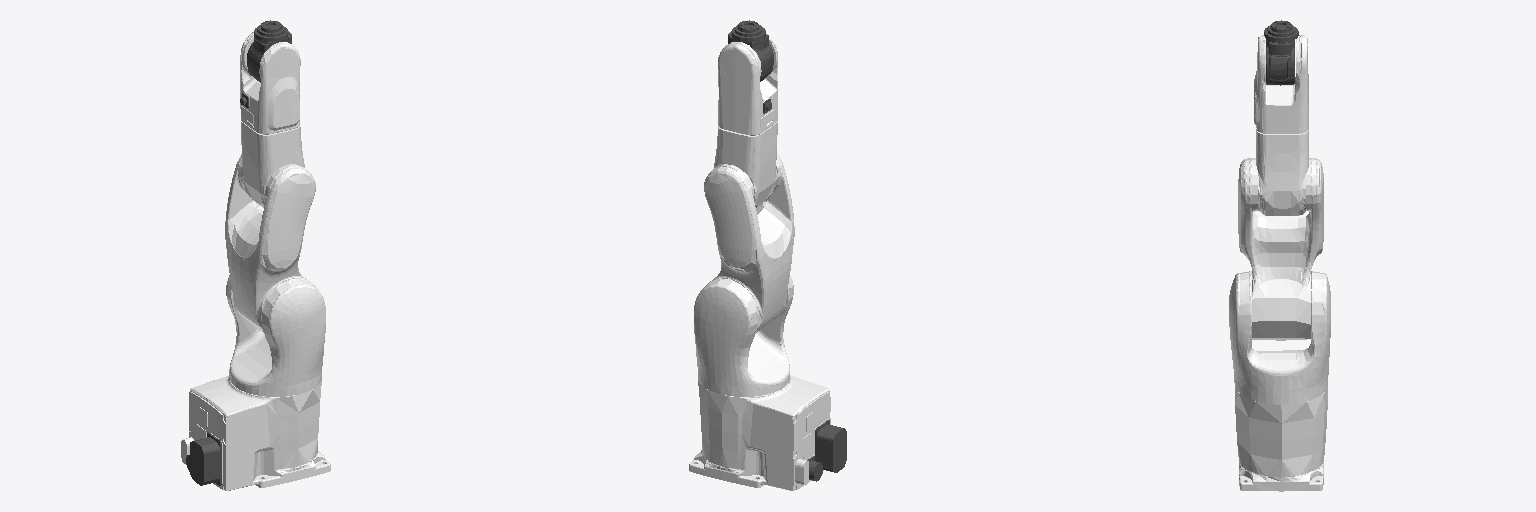
The robot description file, URDF, robot "vs050":
<robot name="vs050">
	<gazebo>
		<plugin filename="libgazebo_ros_control.so" name="gazebo_ros_control">
			<robotNamespace>/vs050</robotNamespace>
		</plugin>
	</gazebo>
	<link name="world" />
	<joint name="joint_w" type="fixed">
		<parent link="world" />
		<child link="base_link" />
	</joint>
	<link name="base_link">
		<visual>
			<origin rpy="0 0 0" xyz="0 0 0" />
			<geometry>
				<mesh filename="package://denso_robot_descriptions/vs050_description/base_link.dae" scale="1 1 1" />
			</geometry>
		</visual>
		<collision>
			<origin rpy="0 0 0" xyz="0 0 0" />
			<geometry>
				<mesh filename="package://denso_robot_descriptions/vs050_description/base_link.dae" scale="1 1 1" />
			</geometry>
		</collision>
		<inertial>
			<mass value="1" />
			<origin rpy="0.000000 0.000000 0.000000" xyz="0.000000 0.000000 0.000000" />
			<inertia ixx="1" ixy="0" ixz="0" iyy="1" iyz="0" izz="1" />
		</inertial>
	</link>
	<link name="J1">
		<visual>
			<origin rpy="0 0 0" xyz="0 0 0" />
			<geometry>
				<mesh filename="package://denso_robot_descriptions/vs050_description/J1.dae" scale="1 1 1" />
			</geometry>
		</visual>
		<collision>
			<origin rpy="0 0 0" xyz="0 0 0" />
			<geometry>
				<mesh filename="package://denso_robot_descriptions/vs050_description/J1.dae" scale="1 1 1" />
			</geometry>
		</collision>
		<inertial>
			<mass value="1" />
			<origin rpy="0.000000 0.000000 0.000000" xyz="0.000000 0.000000 0.000000" />
			<inertia ixx="1" ixy="0" ixz="0" iyy="1" iyz="0" izz="1" />
		</inertial>
	</link>
	<joint name="joint_1" type="revolute">
		<parent link="base_link" />
		<child link="J1" />
		<origin rpy="0.000000 0.000000 0.000000" xyz="0.000000 0.000000 0.181500" />
		<axis xyz="-0.000000 -0.000000 1.000000" />
		<limit effort="1" lower="-2.96705972839036" upper="2.96705972839036" velocity="3.73064127613788" />
		<dynamics damping="0" friction="0" />
	</joint>
	<transmission name="trans_1">
		<type>transmission_interface/SimpleTransmission</type>
		<joint name="joint_1">
			<hardwareInterface>hardware_interface/PositionJointInterface</hardwareInterface>
		</joint>
		<actuator name="motor_1">
			<hardwareInterface>hardware_interface/PositionJointInterface</hardwareInterface>
			<mechanicalReduction>1</mechanicalReduction>
		</actuator>
	</transmission>
	<link name="J2">
		<visual>
			<origin rpy="0 0 0" xyz="0 0 0" />
			<geometry>
				<mesh filename="package://denso_robot_descriptions/vs050_description/J2.dae" scale="1 1 1" />
			</geometry>
		</visual>
		<collision>
			<origin rpy="0 0 0" xyz="0 0 0" />
			<geometry>
				<mesh filename="package://denso_robot_descriptions/vs050_description/J2.dae" scale="1 1 1" />
			</geometry>
		</collision>
		<inertial>
			<mass value="1" />
			<origin rpy="0.000000 0.000000 0.000000" xyz="0.000000 0.000000 0.000000" />
			<inertia ixx="1" ixy="0" ixz="0" iyy="1" iyz="0" izz="1" />
		</inertial>
	</link>
	<joint name="joint_2" type="revolute">
		<parent link="J1" />
		<child link="J2" />
		<origin rpy="0.000000 0.000000 0.000000" xyz="0.000000 0.000000 0.163500" />
		<axis xyz="-0.000000 1.000000 -0.000000" />
		<limit effort="1" lower="-2.0943951023932" upper="2.0943951023932" velocity="2.9845130209103" />
		<dynamics damping="0" friction="0" />
	</joint>
	<transmission name="trans_2">
		<type>transmission_interface/SimpleTransmission</type>
		<joint name="joint_2">
			<hardwareInterface>hardware_interface/PositionJointInterface</hardwareInterface>
		</joint>
		<actuator name="motor_2">
			<hardwareInterface>hardware_interface/PositionJointInterface</hardwareInterface>
			<mechanicalReduction>1</mechanicalReduction>
		</actuator>
	</transmission>
	<link name="J3">
		<visual>
			<origin rpy="0 0 0" xyz="0 0 0" />
			<geometry>
				<mesh filename="package://denso_robot_descriptions/vs050_description/J3.dae" scale="1 1 1" />
			</geometry>
		</visual>
		<collision>
			<origin rpy="0 0 0" xyz="0 0 0" />
			<geometry>
				<mesh filename="package://denso_robot_descriptions/vs050_description/J3.dae" scale="1 1 1" />
			</geometry>
		</collision>
		<inertial>
			<mass value="1" />
			<origin rpy="0.000000 0.000000 0.000000" xyz="0.000000 0.000000 0.000000" />
			<inertia ixx="1" ixy="0" ixz="0" iyy="1" iyz="0" izz="1" />
		</inertial>
	</link>
	<joint name="joint_3" type="revolute">
		<parent link="J2" />
		<child link="J3" />
		<origin rpy="0.000000 0.000000 0.000000" xyz="0.000000 0.000000 0.250000" />
		<axis xyz="-0.000000 1.000000 -0.000000" />
		<limit effort="1" lower="-2.0943951023932" upper="2.63544717051144" velocity="3.3857642159438" />
		<dynamics damping="0" friction="0" />
	</joint>
	<transmission name="trans_3">
		<type>transmission_interface/SimpleTransmission</type>
		<joint name="joint_3">
			<hardwareInterface>hardware_interface/PositionJointInterface</hardwareInterface>
		</joint>
		<actuator name="motor_3">
			<hardwareInterface>hardware_interface/PositionJointInterface</hardwareInterface>
			<mechanicalReduction>1</mechanicalReduction>
		</actuator>
	</transmission>
	<link name="J4">
		<visual>
			<origin rpy="0 0 0" xyz="0 0 0" />
			<geometry>
				<mesh filename="package://denso_robot_descriptions/vs050_description/J4.dae" scale="1 1 1" />
			</geometry>
		</visual>
		<collision>
			<origin rpy="0 0 0" xyz="0 0 0" />
			<geometry>
				<mesh filename="package://denso_robot_descriptions/vs050_description/J4.dae" scale="1 1 1" />
			</geometry>
		</collision>
		<inertial>
			<mass value="1" />
			<origin rpy="0.000000 0.000000 0.000000" xyz="0.000000 0.000000 0.000000" />
			<inertia ixx="1" ixy="0" ixz="0" iyy="1" iyz="0" izz="1" />
		</inertial>
	</link>
	<joint name="joint_4" type="revolute">
		<parent link="J3" />
		<child link="J4" />
		<origin rpy="0.000000 0.000000 0.000000" xyz="-0.010000 0.000000 0.119500" />
		<axis xyz="-0.000000 -0.000000 1.000000" />
		<limit effort="1" lower="-4.71238898038469" upper="4.71238898038469" velocity="3.73064127613788" />
		<dynamics damping="0" friction="0" />
	</joint>
	<transmission name="trans_4">
		<type>transmission_interface/SimpleTransmission</type>
		<joint name="joint_4">
			<hardwareInterface>hardware_interface/PositionJointInterface</hardwareInterface>
		</joint>
		<actuator name="motor_4">
			<hardwareInterface>hardware_interface/PositionJointInterface</hardwareInterface>
			<mechanicalReduction>1</mechanicalReduction>
		</actuator>
	</transmission>
	<link name="J5">
		<visual>
			<origin rpy="0 0 0" xyz="0 0 0" />
			<geometry>
				<mesh filename="package://denso_robot_descriptions/vs050_description/J5.dae" scale="1 1 1" />
			</geometry>
		</visual>
		<collision>
			<origin rpy="0 0 0" xyz="0 0 0" />
			<geometry>
				<mesh filename="package://denso_robot_descriptions/vs050_description/J5.dae" scale="1 1 1" />
			</geometry>
		</collision>
		<inertial>
			<mass value="1" />
			<origin rpy="0.000000 0.000000 0.000000" xyz="0.000000 0.000000 0.000000" />
			<inertia ixx="1" ixy="0" ixz="0" iyy="1" iyz="0" izz="1" />
		</inertial>
	</link>
	<joint name="joint_5" type="revolute">
		<parent link="J4" />
		<child link="J5" />
		<origin rpy="0.000000 0.000000 0.000000" xyz="0.000000 0.000000 0.135500" />
		<axis xyz="-0.000000 1.000000 -0.000000" />
		<limit effort="1" lower="-2.0943951023932" upper="2.0943951023932" velocity="2.87060410727889" />
		<dynamics damping="0" friction="0" />
	</joint>
	<transmission name="trans_5">
		<type>transmission_interface/SimpleTransmission</type>
		<joint name="joint_5">
			<hardwareInterface>hardware_interface/PositionJointInterface</hardwareInterface>
		</joint>
		<actuator name="motor_5">
			<hardwareInterface>hardware_interface/PositionJointInterface</hardwareInterface>
			<mechanicalReduction>1</mechanicalReduction>
		</actuator>
	</transmission>
	<link name="J6">
		<visual>
			<origin rpy="0 0 0" xyz="0 0 0" />
			<geometry>
				<mesh filename="package://denso_robot_descriptions/vs050_description/J6.dae" scale="1 1 1" />
			</geometry>
		</visual>
		<collision>
			<origin rpy="0 0 0" xyz="0 0 0" />
			<geometry>
				<mesh filename="package://denso_robot_descriptions/vs050_description/J6.dae" scale="1 1 1" />
			</geometry>
		</collision>
		<inertial>
			<mass value="1" />
			<origin rpy="0.000000 0.000000 0.000000" xyz="0.000000 0.000000 0.000000" />
			<inertia ixx="1" ixy="0" ixz="0" iyy="1" iyz="0" izz="1" />
		</inertial>
	</link>
	<joint name="joint_6" type="revolute">
		<parent link="J5" />
		<child link="J6" />
		<origin rpy="0.000000 0.000000 0.000000" xyz="0.000000 0.000000 0.070000" />
		<axis xyz="-0.000000 -0.000000 1.000000" />
		<limit effort="1" lower="-6.28318530717959" upper="6.28318530717959" velocity="5.96902604182061" />
		<dynamics damping="0" friction="0" />
	</joint>
	<transmission name="trans_6">
		<type>transmission_interface/SimpleTransmission</type>
		<joint name="joint_6">
			<hardwareInterface>hardware_interface/PositionJointInterface</hardwareInterface>
		</joint>
		<actuator name="motor_6">
			<hardwareInterface>hardware_interface/PositionJointInterface</hardwareInterface>
			<mechanicalReduction>1</mechanicalReduction>
		</actuator>
	</transmission>
</robot>

--- Facts derived from the render (not from the file) ---
The picture shows the robot from 3 angles, left to right: view 1: azimuth 30°, elevation 25°; view 2: azimuth 150°, elevation 25°; view 3: azimuth 270°, elevation 25°; orthographic projection.
Robot: vs050 — 8 links, 7 joints (6 revolute, 1 fixed); root link world; default pose: all joints at 0.
Visible links, largest first — view 1: base_link, J2, J1, J4, J3, J5; view 2: base_link, J2, J1, J4, J3, J5; view 3: J2, base_link, J1, J3, J4, J5.
Boxes of the visible links, x1,y1,x2,y2 form: base_link: (181,376,330,490); J2: (225,154,315,332); J1: (226,275,325,396); J4: (240,32,300,134); J3: (241,121,304,207); J5: (247,25,291,82); base_link: (689,375,846,490); J2: (704,153,794,332); J1: (694,276,793,396); J4: (718,34,777,135); J3: (714,121,777,207); J5: (728,25,773,81); J2: (1238,158,1323,340); base_link: (1235,387,1327,491); J1: (1229,271,1330,404); J3: (1256,128,1308,215); J4: (1254,35,1308,133); J5: (1264,25,1298,85).
Size in the robot's own frame: 0.278 by 0.1924 by 0.92 metres.
7 mesh visuals loaded from 7 distinct referenced files (7 Collada DAE).